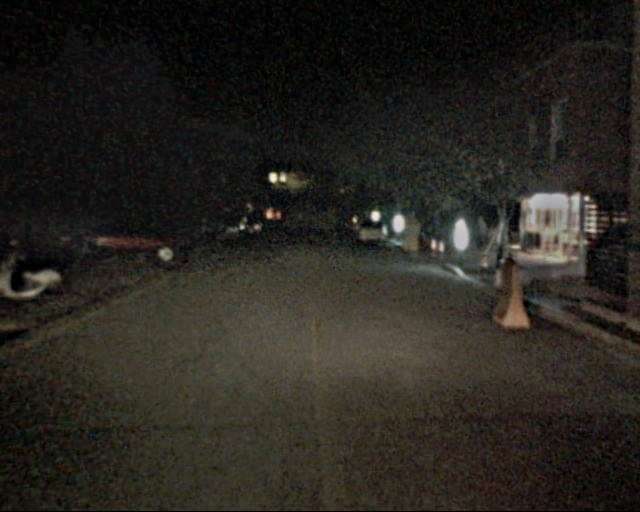person: (472, 217, 490, 262)
